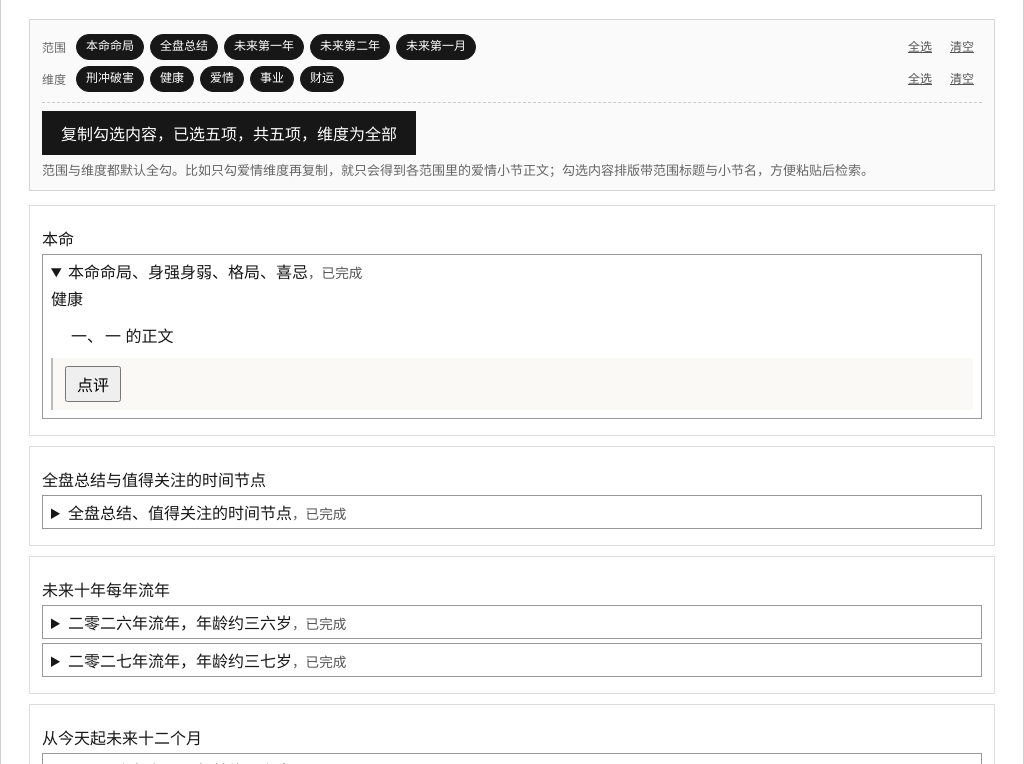
Test: 详情页逐条「点评」留言 › 没解锁本地系统也照样能写点评（它是公开功能，不受第四路闸门约束）
This screenshot has width=1024, height=764.
(page scrolled)
Click the button "点评": (93, 384) [65, 366, 121, 402]
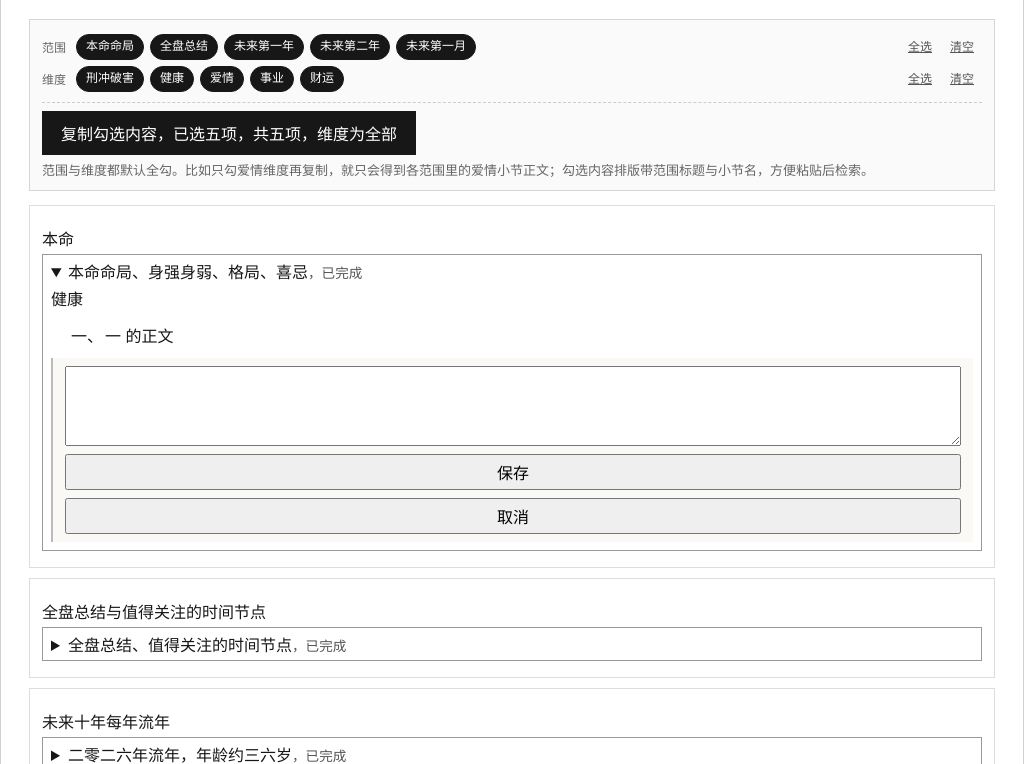
In the text box: (513, 406) [65, 366, 961, 446], type "陌生人也能写"
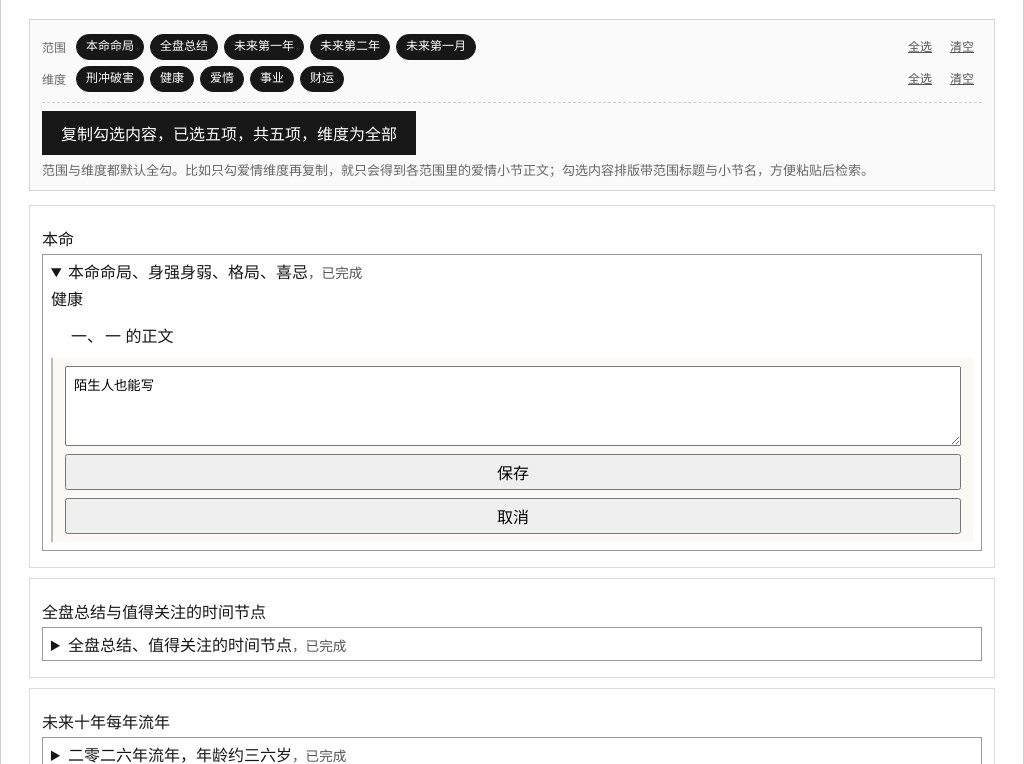
Click the button "保存": (513, 472) [65, 454, 961, 490]
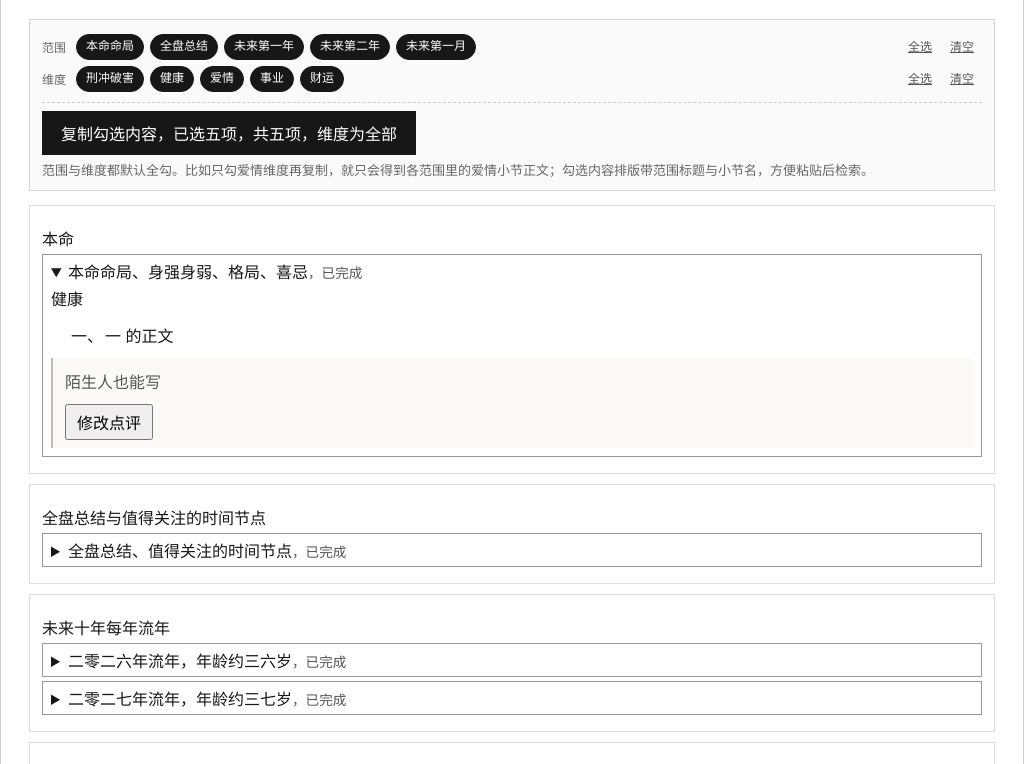
Expected: the text "陌生人也能写" is shown, [65, 374, 161, 391]
